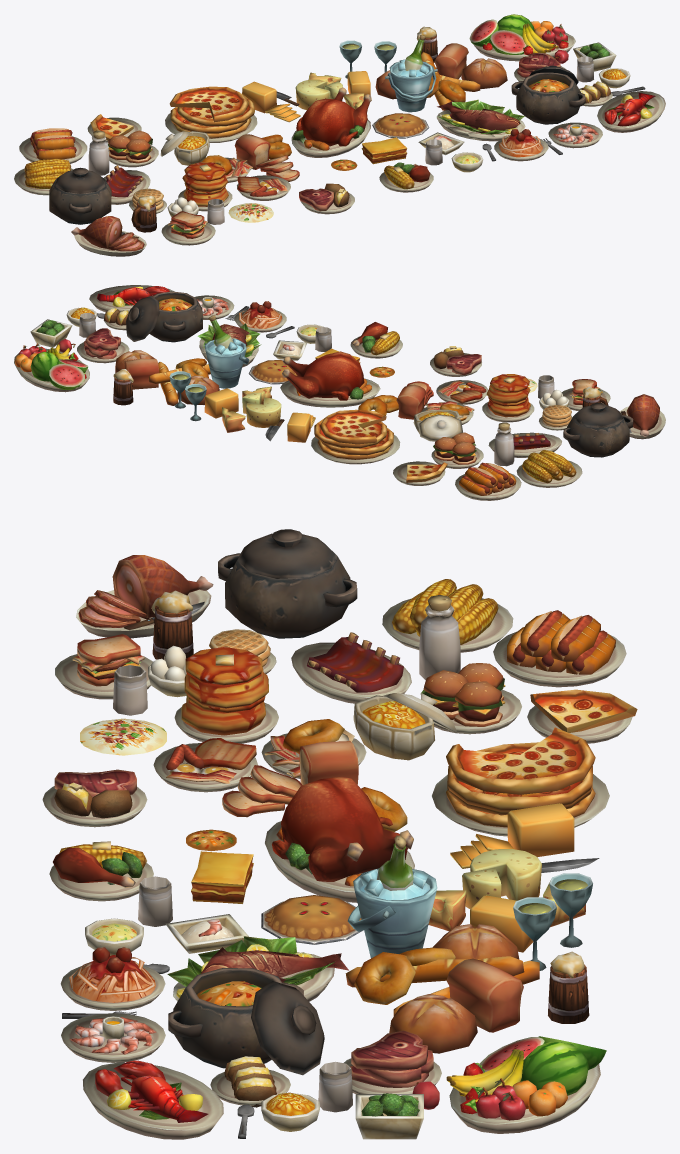
File: Food items.fbx
The picture shows the model from 3 angles, top to bottom: view 1: azimuth 30°, elevation 25°; view 2: azimuth 150°, elevation 25°; view 3: azimuth 270°, elevation 25°; orthographic projection. The views are drawn at different scales.
Parts seen in each view (by area): view 1: Object046, Object028, Object037, Object053, Object041, Object015, Object038, Object023, Object006, Object002, Object013, Object057 (+38 smaller); view 2: Object046, Object037, Object053, Object028, Object015, Object057, Object023, Object013, Object052, Object002, Object024, Object050 (+35 smaller); view 3: Object037, Object046, Object053, Object028, Object038, Object057, Object013, Object024, Object023, Object006, Object002, Object015 (+41 smaller).
Part boxes in pixels (x1,y1,x2,y2): Object046: [291, 87, 371, 157]; Object028: [469, 14, 575, 61]; Object037: [511, 65, 585, 124]; Object053: [49, 167, 111, 224]; Object041: [436, 99, 525, 141]; Object015: [165, 94, 257, 142]; Object038: [597, 91, 665, 132]; Object023: [385, 35, 437, 112]; Object006: [71, 216, 146, 256]; Object002: [169, 86, 249, 122]; Object013: [19, 128, 87, 163]; Object057: [178, 162, 232, 211]; Object046: [280, 351, 380, 407]; Object037: [126, 291, 203, 342]; Object053: [563, 402, 633, 457]; Object028: [14, 343, 89, 392]; Object015: [311, 417, 400, 464]; Object057: [482, 374, 534, 422]; Object023: [204, 315, 249, 388]; Object013: [455, 462, 521, 500]; Object052: [516, 438, 582, 487]; Object002: [320, 409, 386, 444]; Object024: [148, 358, 219, 405]; Object050: [431, 432, 483, 468]; Object037: [168, 968, 324, 1075]; Object046: [265, 776, 414, 902]; Object053: [218, 529, 357, 638]; Object028: [446, 1036, 606, 1133]; Object038: [83, 1060, 223, 1139]; Object057: [174, 647, 278, 743]; Object013: [493, 610, 626, 687]; Object024: [345, 924, 539, 1016]; Object023: [347, 835, 437, 958]; Object006: [76, 555, 213, 638]; Object002: [446, 727, 595, 794]; Object015: [432, 742, 609, 836].
Size of the model in its own units: 126 by 15.02 by 57.21.
Materials: 2 (2 with a texture image).
